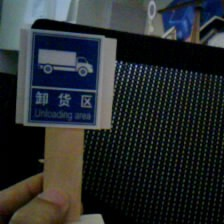unload: (20, 26, 112, 129)
